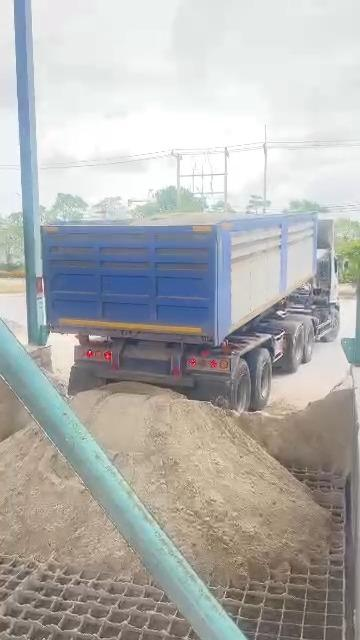sand: (72, 383, 327, 583), (0, 426, 140, 576), (238, 382, 355, 474), (5, 319, 66, 396), (0, 377, 30, 441), (131, 211, 248, 225)
